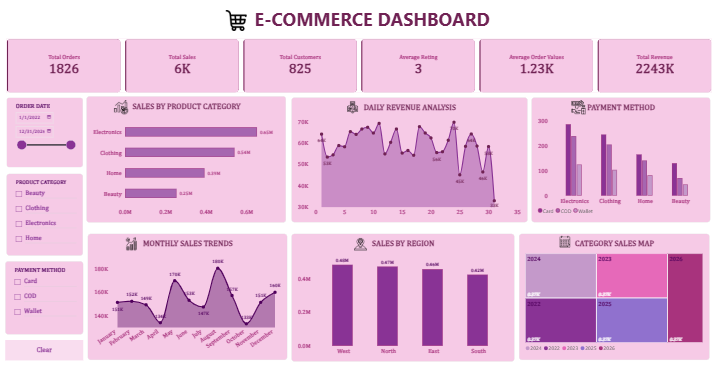

This screenshot's page, from the dashboard's own definition file:
{"tool":"powerbi","page":{"name":"E-Commerce Dashboard","canvas":[1920,1080],"ordinal":0},"visuals":[{"type":"cardVisual","fields":{"Data":["All Ecommerse_Measures.Total Orders","All Ecommerse_Measures.Total Sales","All Ecommerse_Measures.Total Customers","All Ecommerse_Measures.Average Reting","All Ecommerse_Measures.Average Order Values","All Ecommerse_Measures.Total Revenue"]},"box":[20.2,104.9,1880,144],"z":0},{"type":"slicer","fields":{"Values":["E-Commerse_Sales.order_date"]},"box":[20,260,204,186],"z":1000},{"type":"textbox","box":[556,18,784,70],"z":2000},{"type":"slicer","fields":{"Values":["E-Commerse_Sales.product_category"]},"box":[20,462,204,218],"z":3000},{"type":"slicer","fields":{"Values":["E-Commerse_Sales.payment_method"]},"box":[16.6,697.5,208,195.1],"z":4000},{"type":"actionButton","box":[16,906,208,54],"z":5000},{"type":"clusteredBarChart","title":"SALES BY PRODUCT CATEGORY","fields":{"Category":["E-Commerse_Sales.product_category"],"Y":["Sum(E-Commerse_Sales.revenue)"]},"box":[234.7,255.2,531.9,336.8],"z":6000},{"type":"clusteredColumnChart","title":"SALES BY REGION ","fields":{"Category":["E-Commerse_Sales.region"],"Y":["Sum(E-Commerse_Sales.revenue)"]},"box":[778.5,623.9,594.5,340.5],"z":7000},{"type":"clusteredColumnChart","title":"PAYMENT METHOD","fields":{"Category":["E-Commerse_Sales.product_category"],"Series":["E-Commerse_Sales.payment_method"],"Y":["Count(E-Commerse_Sales.order_id)"]},"box":[1420.9,259.5,476.7,333.1],"z":8000},{"type":"areaChart","title":"MONTHLY SALES TRENDS","fields":{"Category":["E-Commerse_Sales.order_date.Variation.Date Hierarchy.Month"],"Y":["Sum(E-Commerse_Sales.revenue)"]},"box":[235.6,623.9,531.9,336.8],"z":9000},{"type":"treemap","title":"CATEGORY SALES MAP","fields":{"Group":["E-Commerse_Sales.order_date.Variation.Date Hierarchy.Year"],"Values":["CountNonNull(E-Commerse_Sales.product_category)"]},"box":[1385.9,623.9,508,336.8],"z":10000},{"type":"areaChart","title":"DAILY REVENUE ANALYSIS","fields":{"Category":["E-Commerse_Sales.order_date.Variation.Date Hierarchy.Day"],"Y":["Sum(E-Commerse_Sales.revenue)"]},"box":[778.5,259.5,629.5,333.1],"z":11000},{"type":"image","box":[576,26,112,56],"z":12000},{"type":"image","box":[1492.6,623.9,31.3,42.3],"z":13000},{"type":"image","box":[948,624,34,56],"z":14000},{"type":"image","box":[316,634,72,34],"z":15000},{"type":"image","box":[1509.2,266.9,69.9,38.7],"z":16000},{"type":"image","box":[901.8,266.9,79.1,38.7],"z":17000},{"type":"image","box":[300,266.9,51.5,38.7],"z":18000}]}

Visuals, with their boxes on the page's 1920x1080 design canvas (x1, y1, x2, y2). These are canvas units, not pixel positions in the 717x375 screenshot, which may show the page scaled, cropped or inside an application window:
cardVisual - All Ecommerse_Measures.Total Orders x All Ecommerse_Measures.Total Sales: select_region(20, 105, 1900, 249)
slicer - E-Commerse_Sales.order_date: select_region(20, 260, 224, 446)
textbox: select_region(556, 18, 1340, 88)
slicer - E-Commerse_Sales.product_category: select_region(20, 462, 224, 680)
slicer - E-Commerse_Sales.payment_method: select_region(17, 698, 225, 893)
actionButton: select_region(16, 906, 224, 960)
"SALES BY PRODUCT CATEGORY" clusteredBarChart: select_region(235, 255, 767, 592)
"SALES BY REGION " clusteredColumnChart: select_region(778, 624, 1373, 964)
"PAYMENT METHOD" clusteredColumnChart: select_region(1421, 260, 1898, 593)
"MONTHLY SALES TRENDS" areaChart: select_region(236, 624, 768, 961)
"CATEGORY SALES MAP" treemap: select_region(1386, 624, 1894, 961)
"DAILY REVENUE ANALYSIS" areaChart: select_region(778, 260, 1408, 593)
image: select_region(576, 26, 688, 82)
image: select_region(1493, 624, 1524, 666)
image: select_region(948, 624, 982, 680)
image: select_region(316, 634, 388, 668)
image: select_region(1509, 267, 1579, 306)
image: select_region(902, 267, 981, 306)
image: select_region(300, 267, 352, 306)
